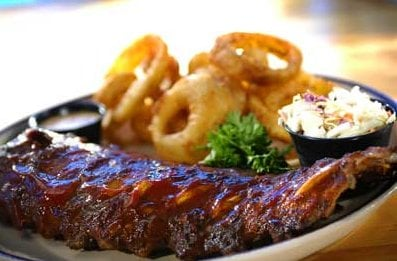curry: (200, 110, 296, 173)
salad: (0, 92, 107, 147)
sushi: (278, 76, 397, 167)
